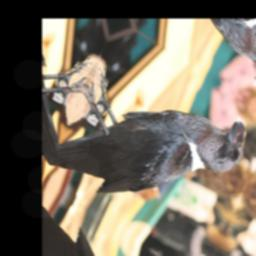Crow: (49, 35, 256, 256)
